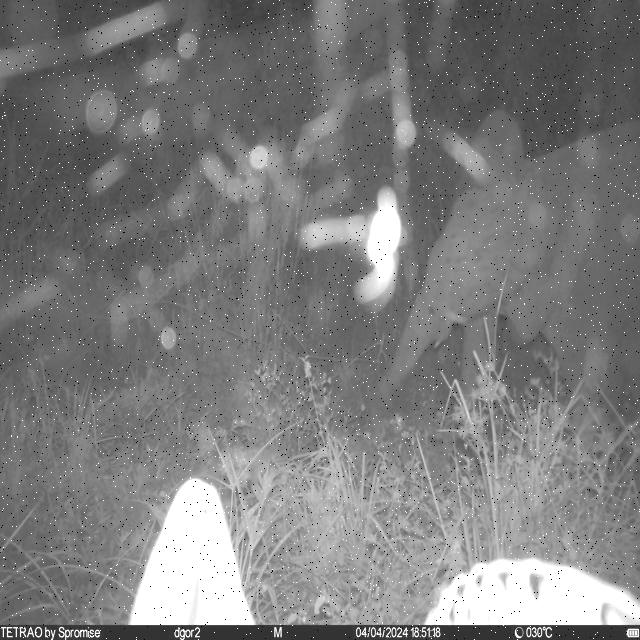calf: (378, 108, 640, 432)
ear: (498, 194, 596, 347), (455, 110, 523, 206)
tusk: (431, 322, 451, 354)
